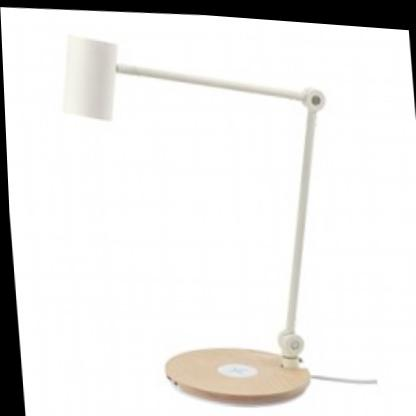Lamp: (32, 12, 356, 416)
